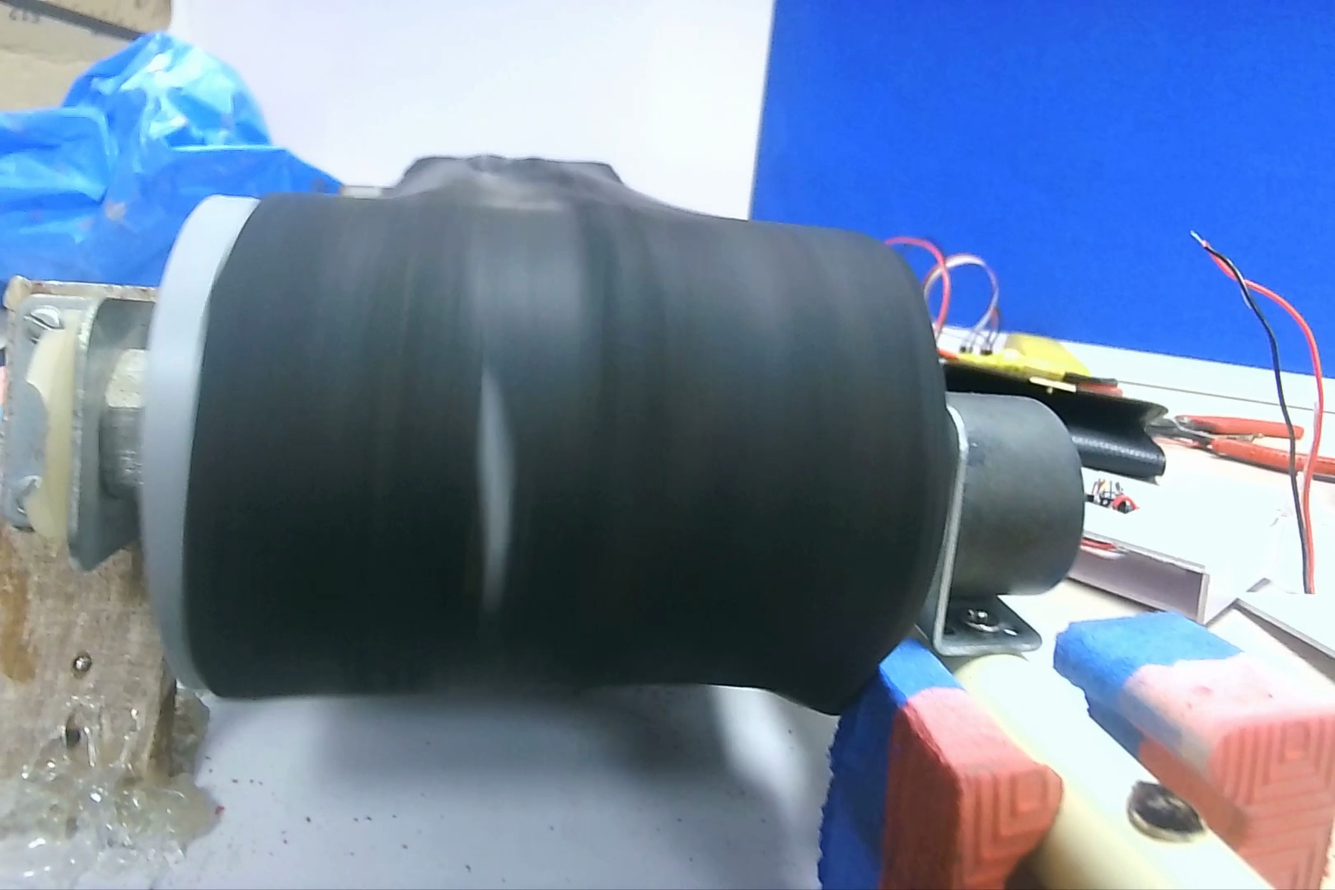hole: (718, 686, 809, 821)
tear: (467, 347, 514, 633)
